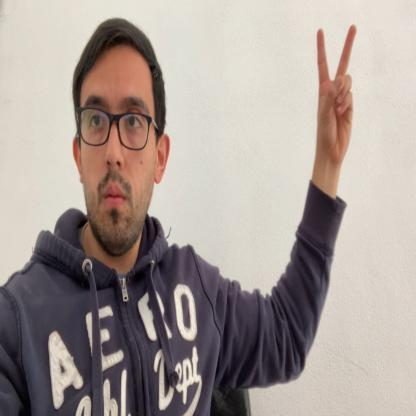V: (316, 20, 358, 162)
